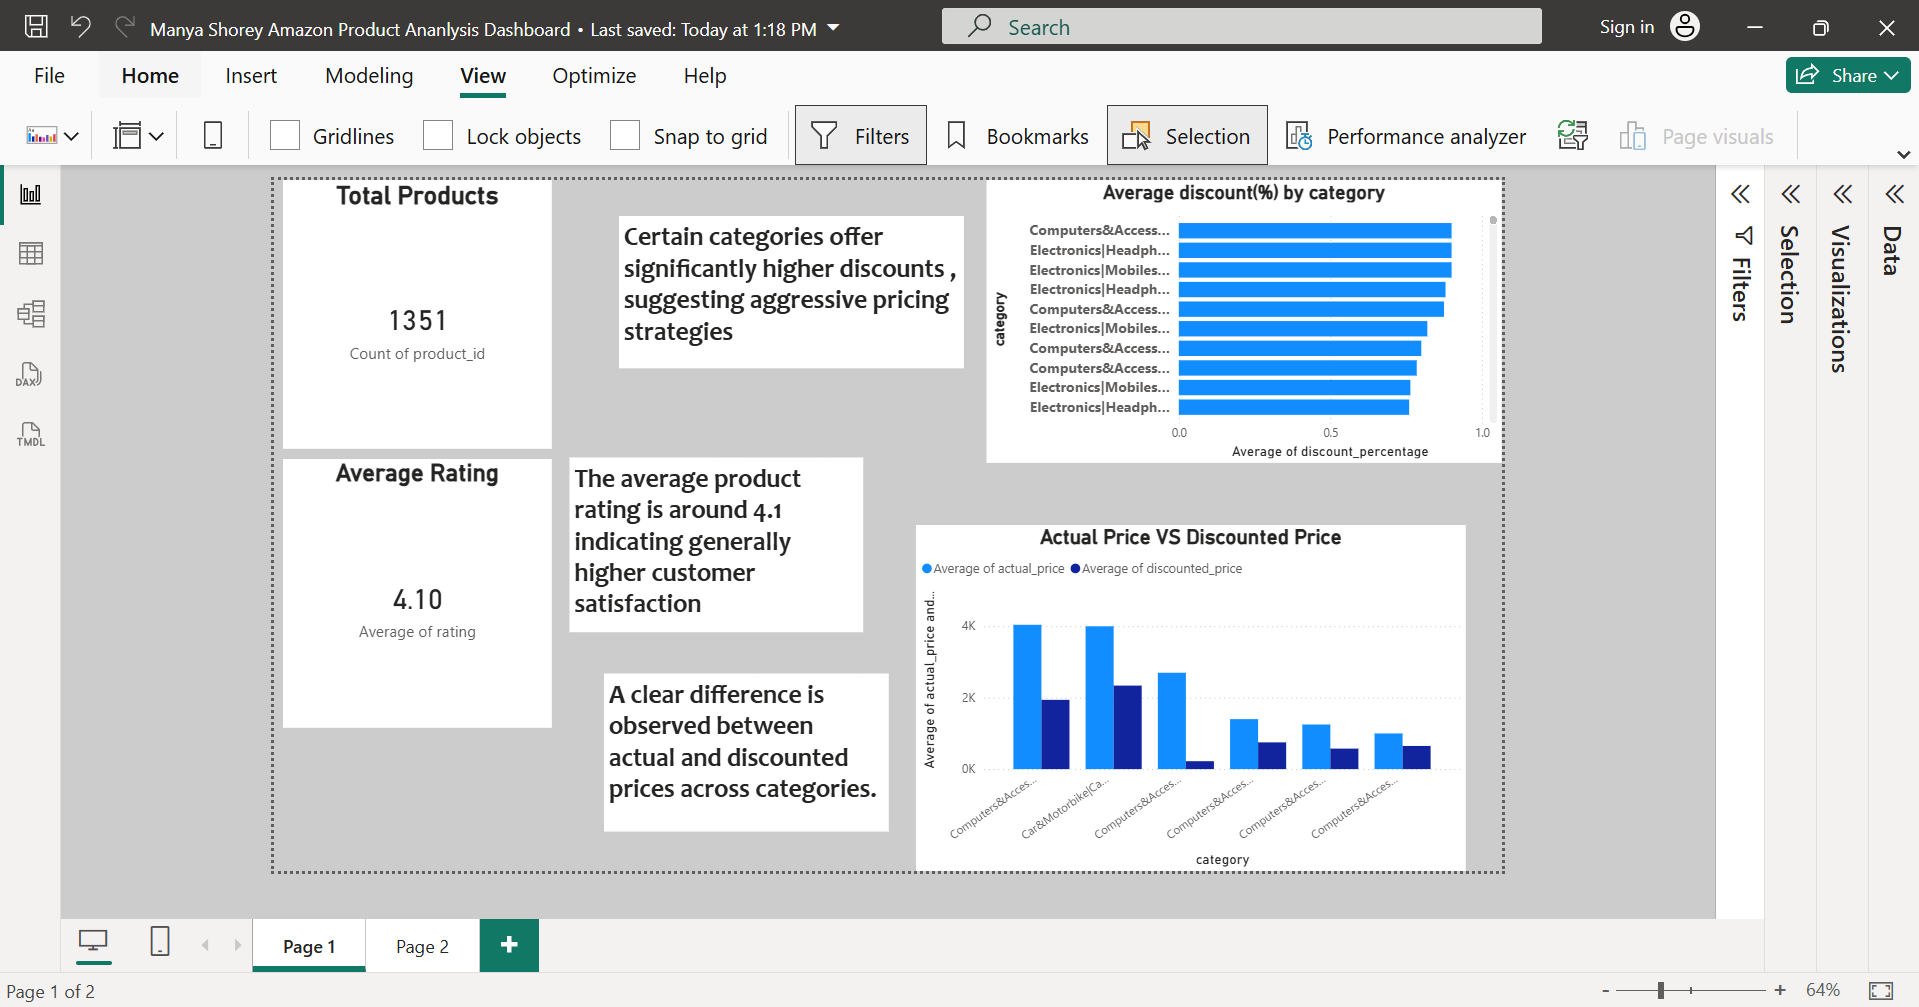

The dashboard page shown, as its layout file describes it:
{"tool":"powerbi","page":{"name":"Page 1","canvas":[1280,720],"ordinal":0},"visuals":[{"type":"card","title":"Total Products","fields":{"Values":["Count(amazon.product_id)"]},"box":[10,0,280,280],"z":0},{"type":"card","title":"Average Rating","fields":{"Values":["Avg(amazon.rating)"]},"box":[10,290,280,280],"z":1000},{"type":"clusteredBarChart","title":"Average discount(%) by category","fields":{"Category":["amazon.category"],"Y":["Avg(amazon.discount_percentage)"]},"box":[742.7,0,536.7,294.8],"z":2000},{"type":"clusteredColumnChart","title":"Actual Price VS Discounted Price","fields":{"Category":["amazon.category"],"Y":["Avg(amazon.actual_price)","Avg(amazon.discounted_price)"]},"box":[669,359.1,572.6,360.9],"z":3000},{"type":"textbox","box":[289.1,294.8,306.1,183.3],"z":4000},{"type":"textbox","box":[359.1,37.8,383.6,158.7],"z":5000},{"type":"textbox","box":[343.9,514,296.7,164.4],"z":6000}]}

Visuals, with their boxes on the page's 1280x720 design canvas (x1, y1, x2, y2). These are canvas units, not pixel positions in the 1919x1007 screenshot, which may show the page scaled, cropped or inside an application window:
"Total Products" card: BBox(10, 0, 290, 280)
"Average Rating" card: BBox(10, 290, 290, 570)
"Average discount(%) by category" clusteredBarChart: BBox(743, 0, 1279, 295)
"Actual Price VS Discounted Price" clusteredColumnChart: BBox(669, 359, 1242, 720)
textbox: BBox(289, 295, 595, 478)
textbox: BBox(359, 38, 743, 196)
textbox: BBox(344, 514, 641, 678)
